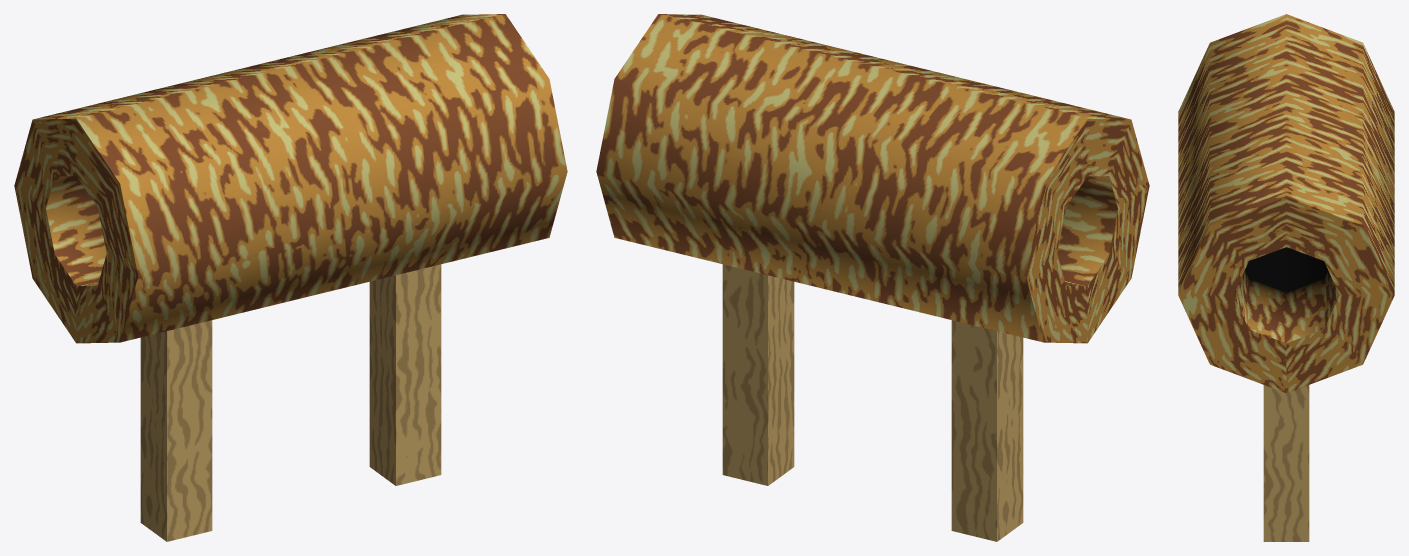
The model's file is birdnest01.fbx.
3 views of the same model, side by side, from view 1: azimuth 30°, elevation 25°; view 2: azimuth 150°, elevation 25°; view 3: azimuth 270°, elevation 25° (orthographic). The views are drawn at different scales.
Visible parts, largest first — view 1: birdnest001; view 2: birdnest001; view 3: birdnest001.
Part boxes in pixels (x1,y1,x2,y2): birdnest001: (14, 14, 567, 541); birdnest001: (596, 14, 1149, 541); birdnest001: (1178, 14, 1394, 541).
Size of the model in its own units: 162 by 156 by 81.21.
